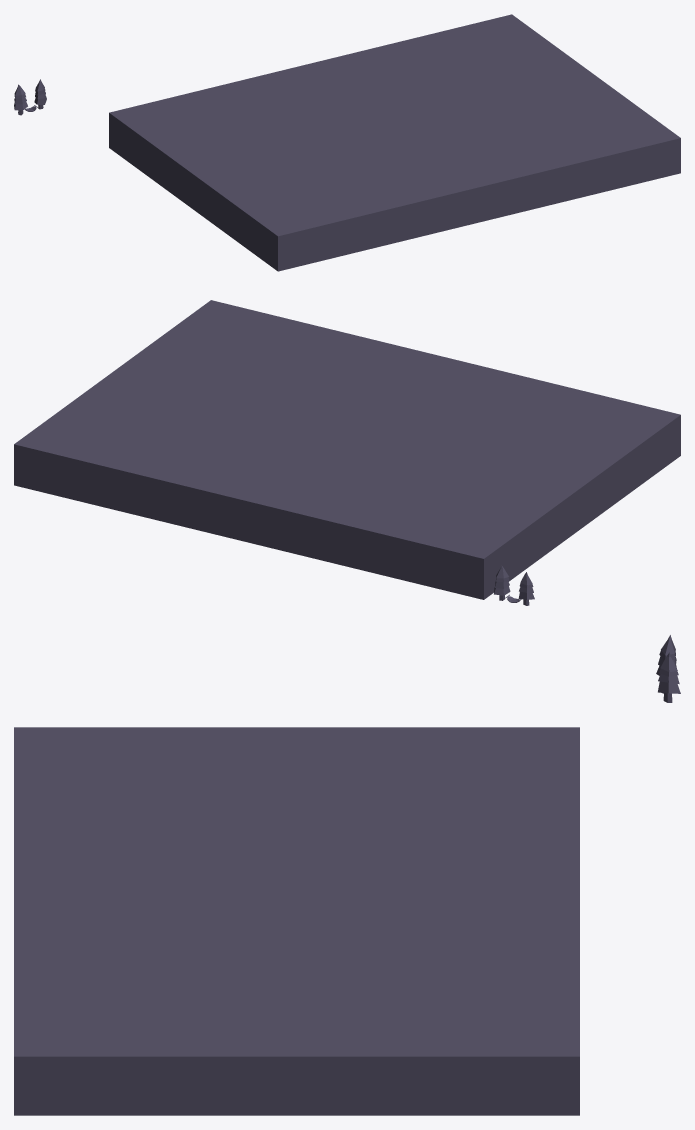
The model's file is Hamaca.fbx.
3 renders of one model, top to bottom at view 1: azimuth 30°, elevation 25°; view 2: azimuth 150°, elevation 25°; view 3: azimuth 270°, elevation 25°, orthographic. The views are drawn at different scales.
Parts seen in each view (by area): view 1: pCube65; view 2: pCube65; view 3: pCube65.
Boxes of the visible parts, bbox=[...] form: pCube65: bbox=[109, 14, 680, 271]; pCube65: bbox=[14, 300, 680, 599]; pCube65: bbox=[14, 727, 579, 1115].
Size of the model in its own units: 21717 by 2623 by 15866.
